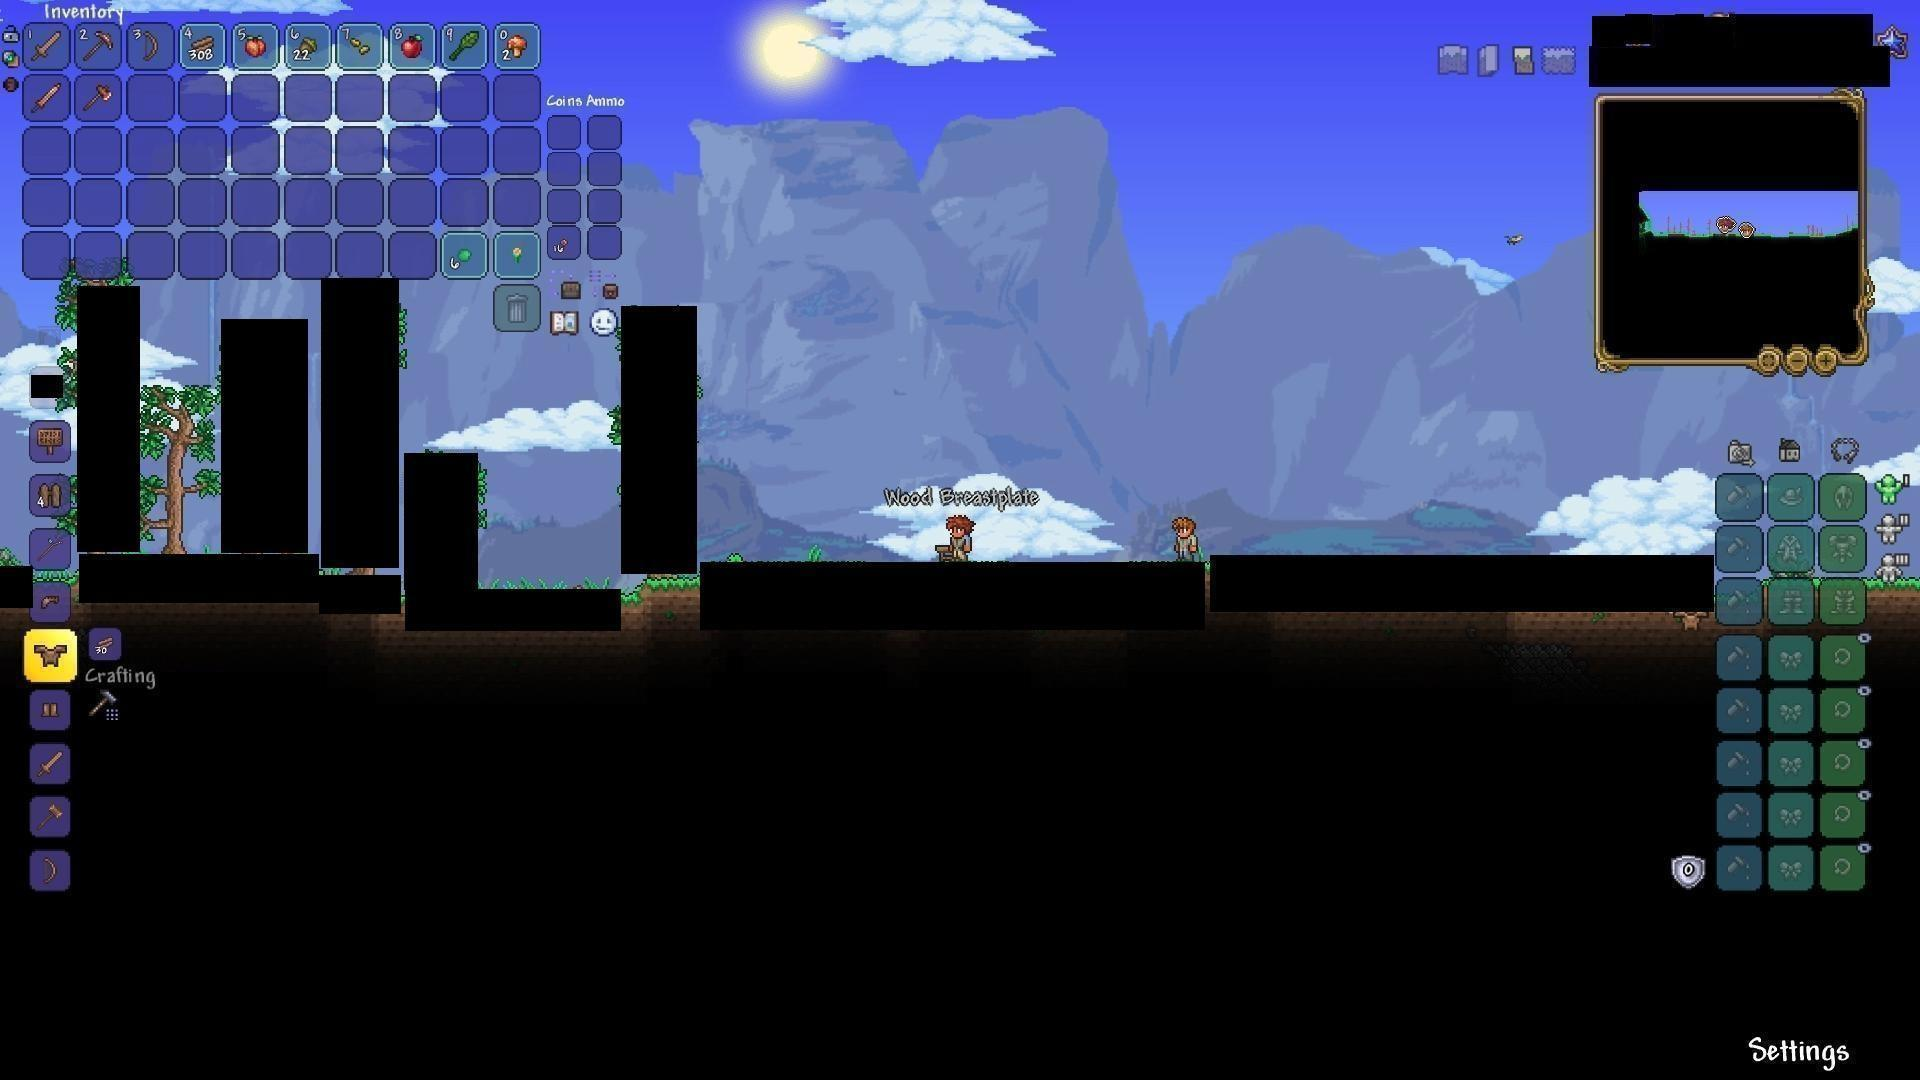breastplate: (36, 644, 67, 669)
dirt: (626, 578, 694, 617)
helmet: (36, 589, 65, 616)
legs: (38, 698, 63, 723)
tree: (136, 380, 219, 553)
wood: (187, 30, 218, 58), (91, 632, 120, 659)
workbench: (928, 541, 965, 564)
